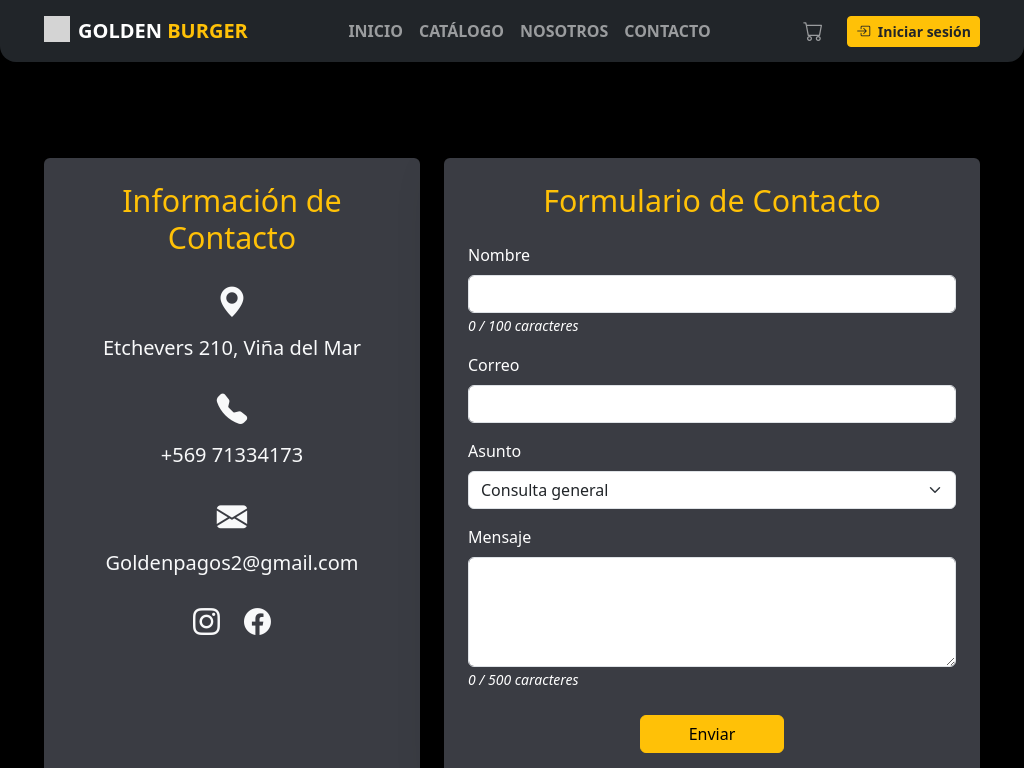
Test case: Componente ContactoPag › debería enviar el formulario y mostrar mensaje de éxito si los campos son válidos
# Rellenamos el formulario con datos válidos
Type "Usuario Test" into the field labelled "Nombre".
click(712, 294); type("Usuario Test")  # box x1=468 y1=274 x2=956 y2=312
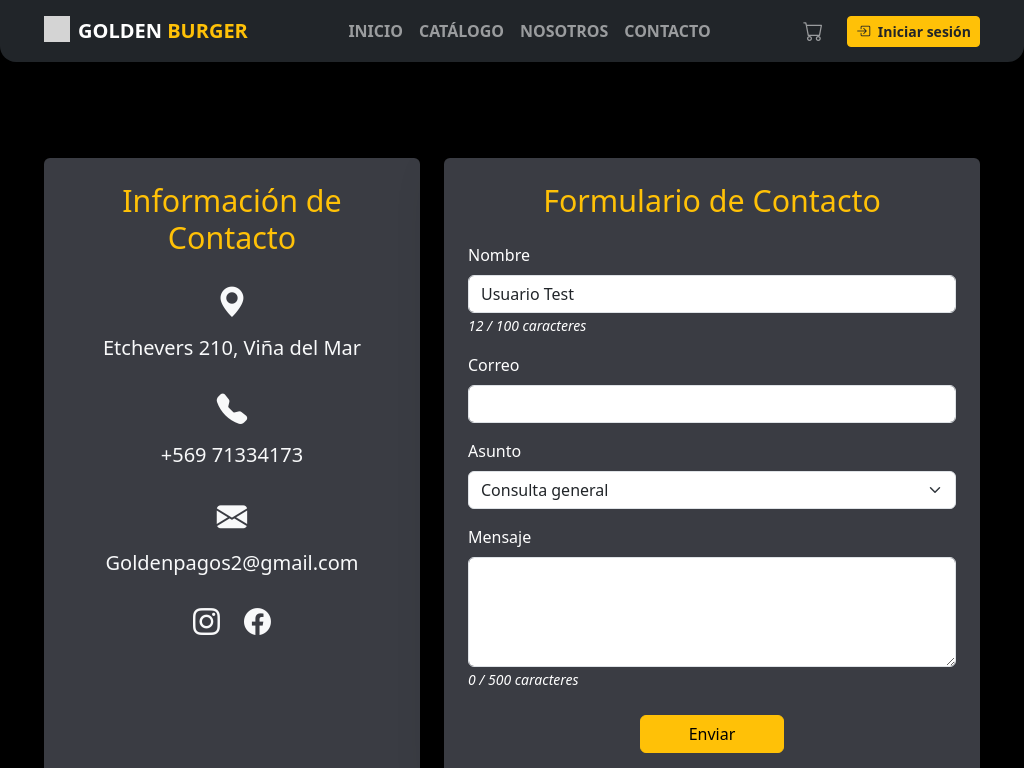
Type "test@correo.com" into the field labelled "Correo".
click(712, 404); type("test@correo.com")  # box x1=468 y1=384 x2=956 y2=422
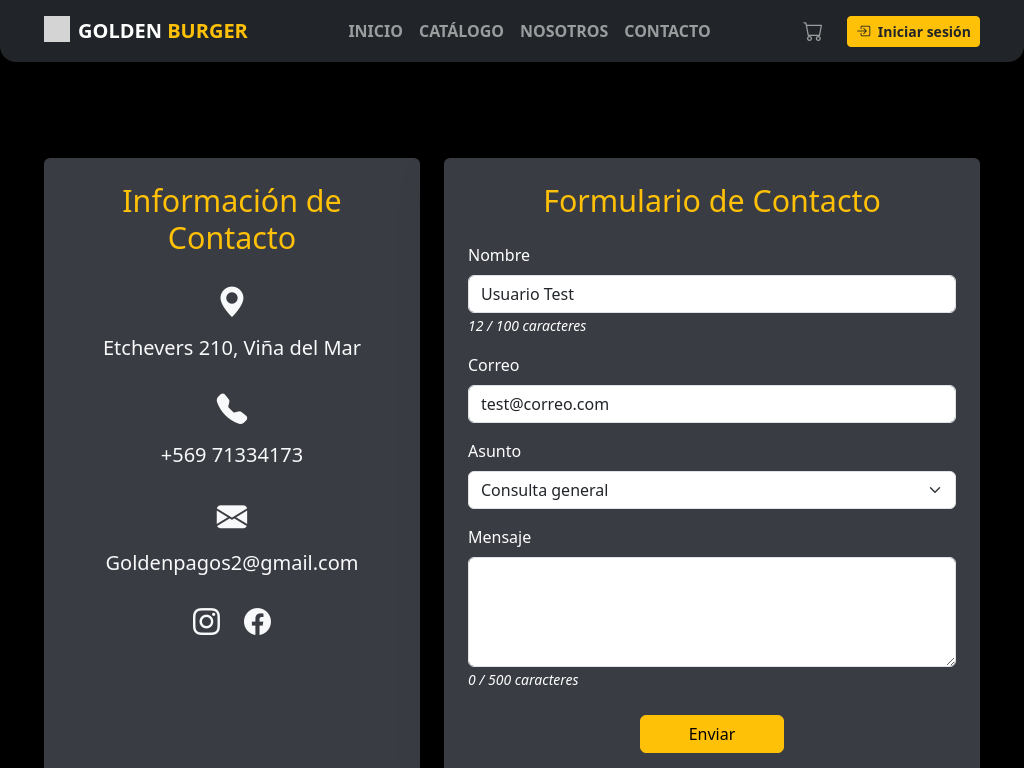
Type "Mensaje válido." into the text box labelled "Mensaje".
click(712, 612); type("Mensaje válido.")  # box x1=468 y1=556 x2=956 y2=666
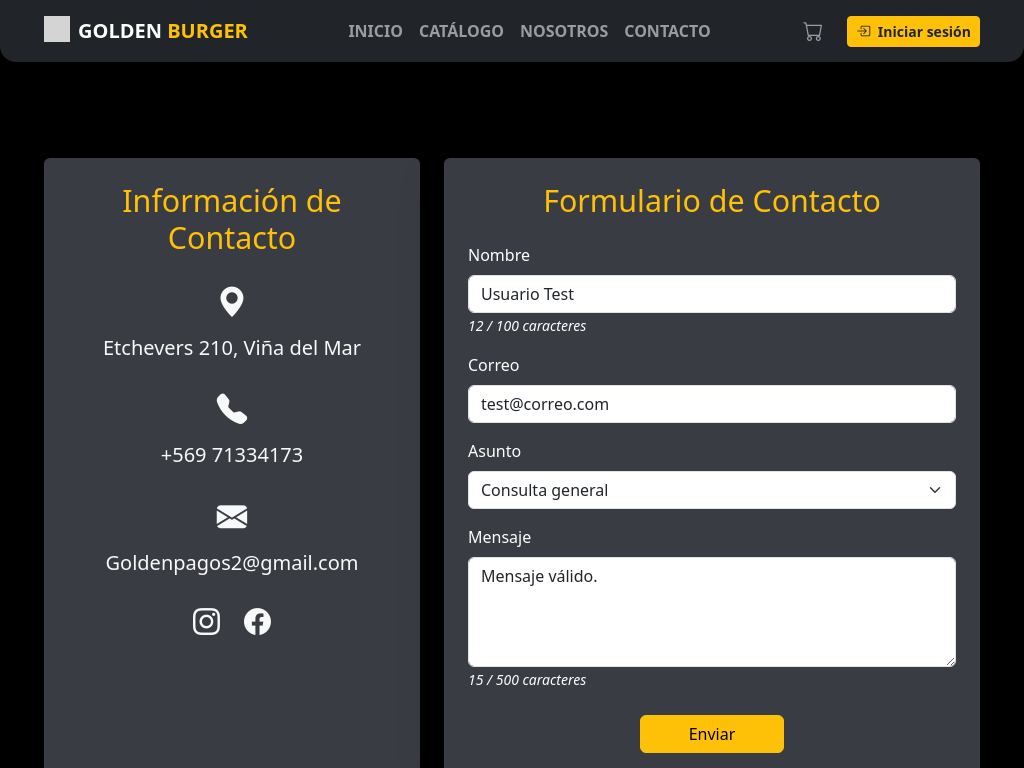
# Enviamos el formulario
Click the button "Enviar".
click(712, 734)  # box x1=640 y1=714 x2=784 y2=752
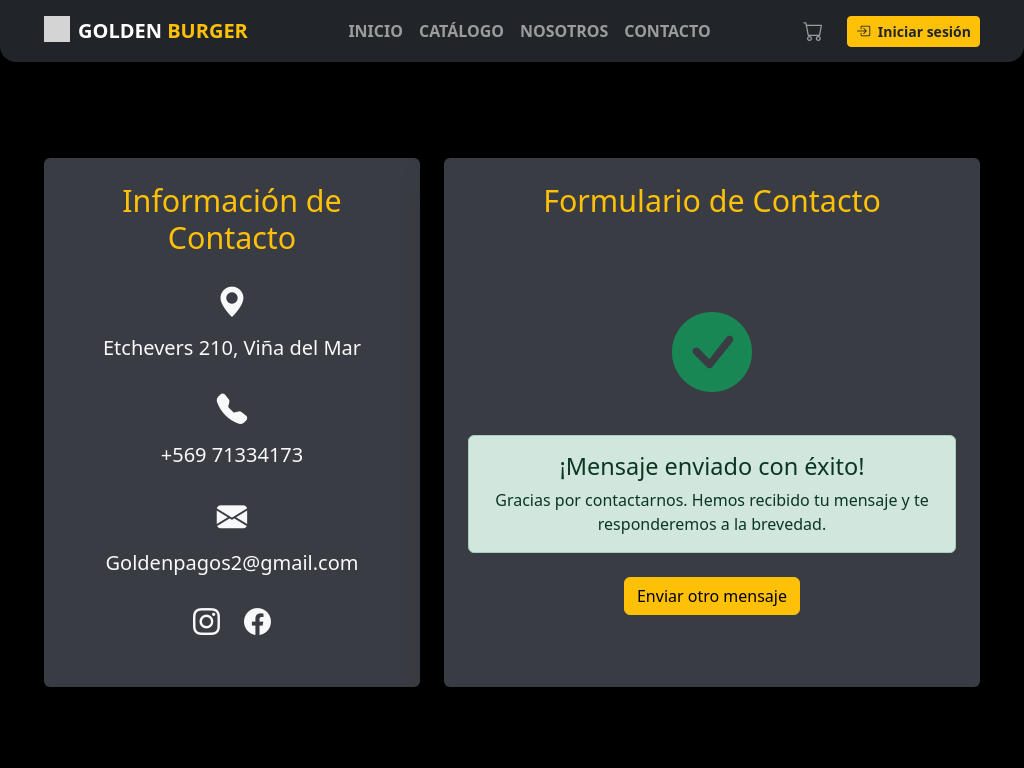
Now the text "¡Mensaje enviado con éxito!" is shown, box x1=560 y1=450 x2=864 y2=482
Now the text "Gracias por contactarnos" is shown, box x1=495 y1=489 x2=929 y2=535
